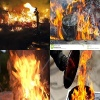fire: (9, 54, 48, 100), (0, 2, 47, 31), (70, 50, 96, 99), (76, 12, 99, 41), (50, 0, 67, 39)
